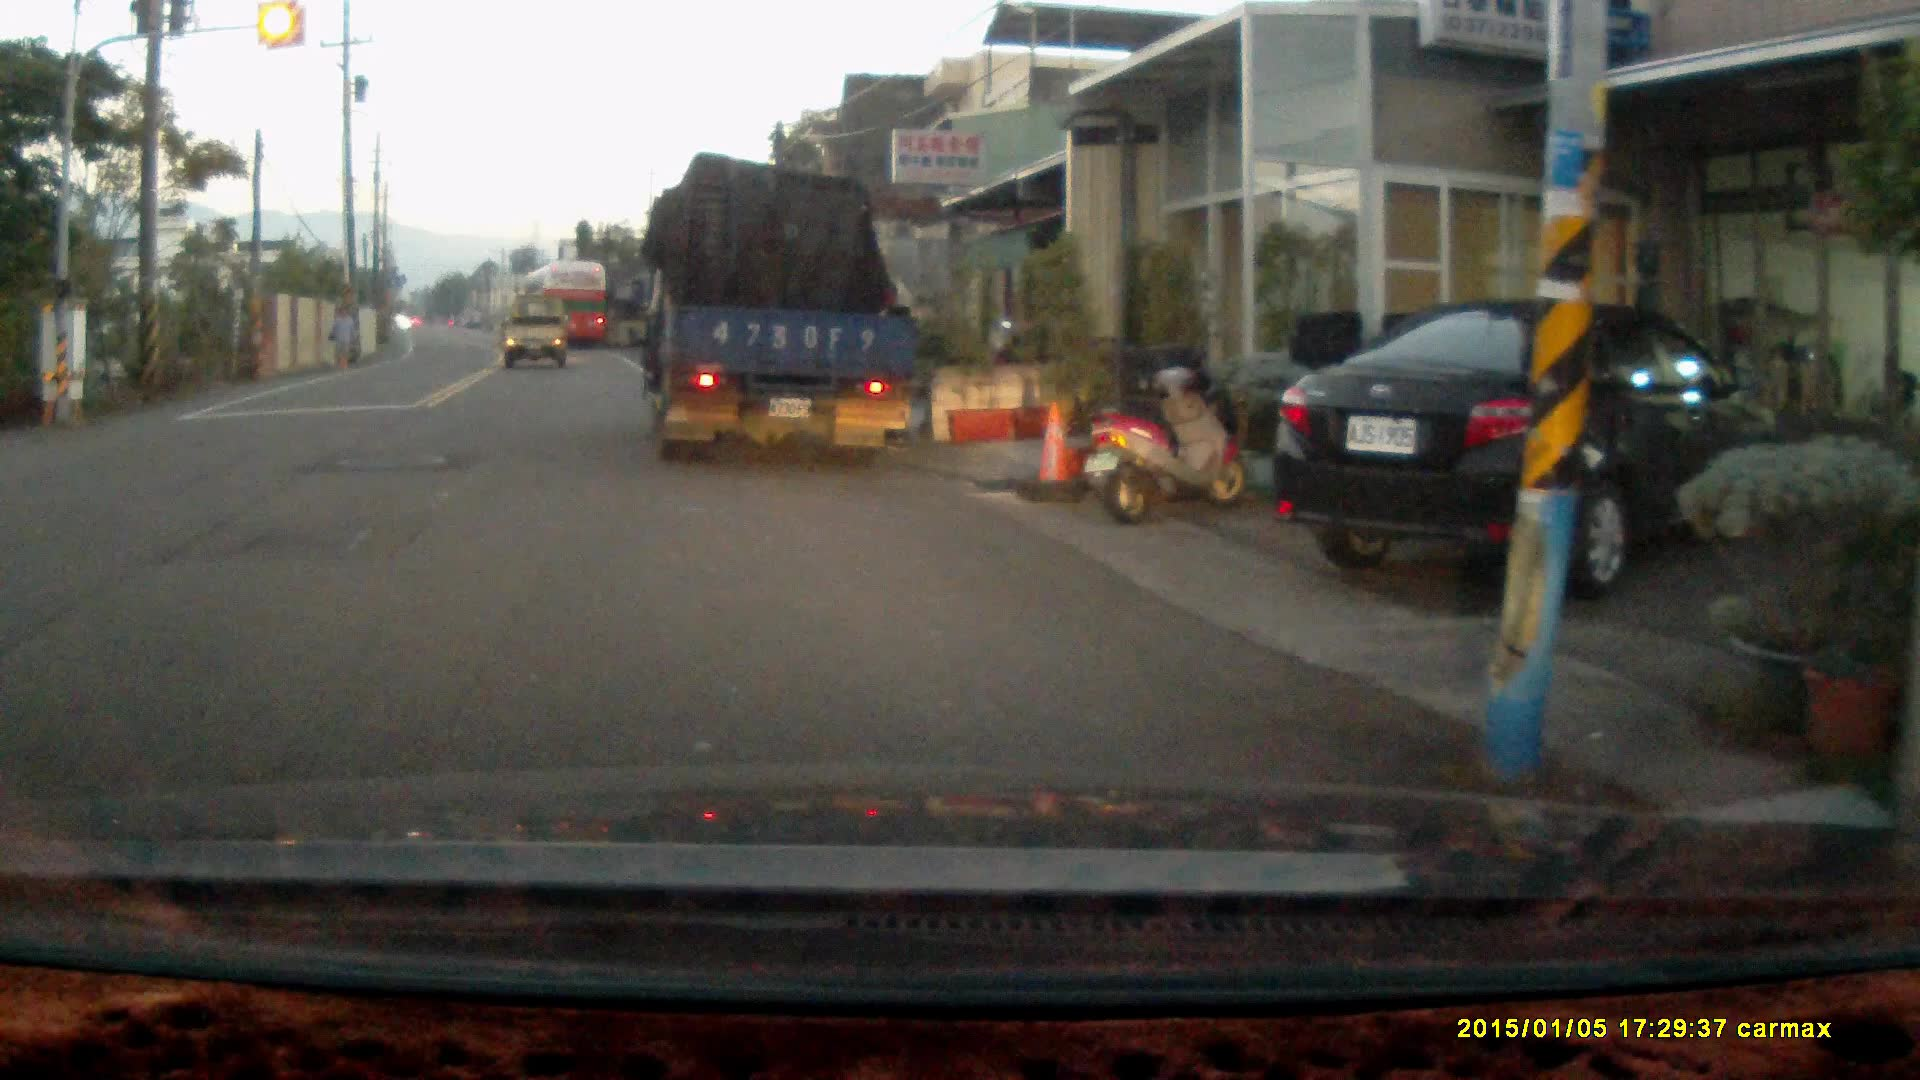pedestrian: (329, 302, 360, 370)
vehicle: (1261, 292, 1784, 601), (638, 160, 925, 461), (519, 264, 613, 359), (505, 297, 572, 372)
